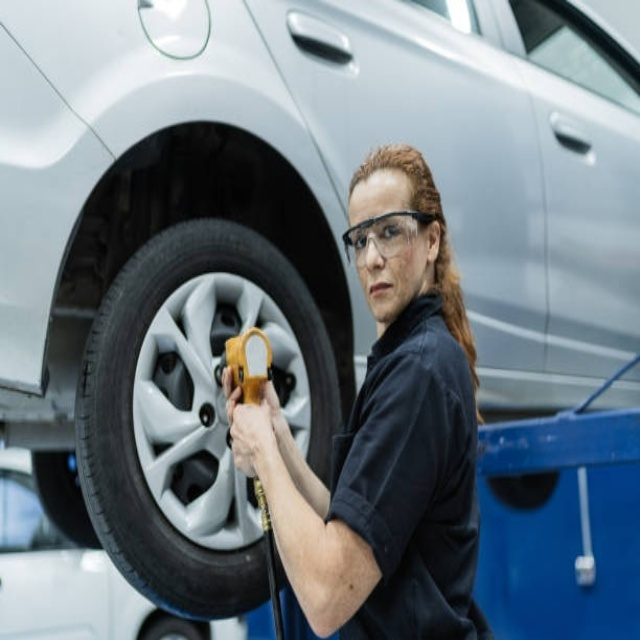Gafas: (343, 210, 435, 267)
Sin_guantes: (226, 373, 281, 483)
Sin_mascara: (364, 274, 396, 318)
